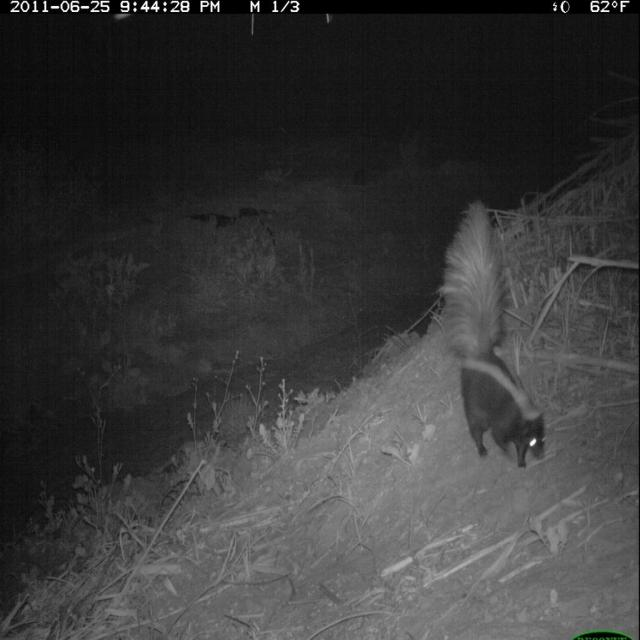skunk: (426, 196, 555, 464)
